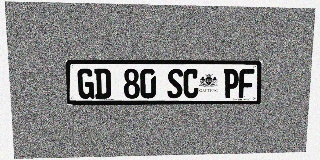0: (140, 69, 156, 98)
8: (124, 69, 140, 99)
C: (183, 69, 199, 98)
D: (94, 68, 111, 99)
F: (239, 69, 255, 98)
G: (77, 68, 94, 99)
P: (223, 69, 239, 98)
S: (167, 69, 183, 98)
